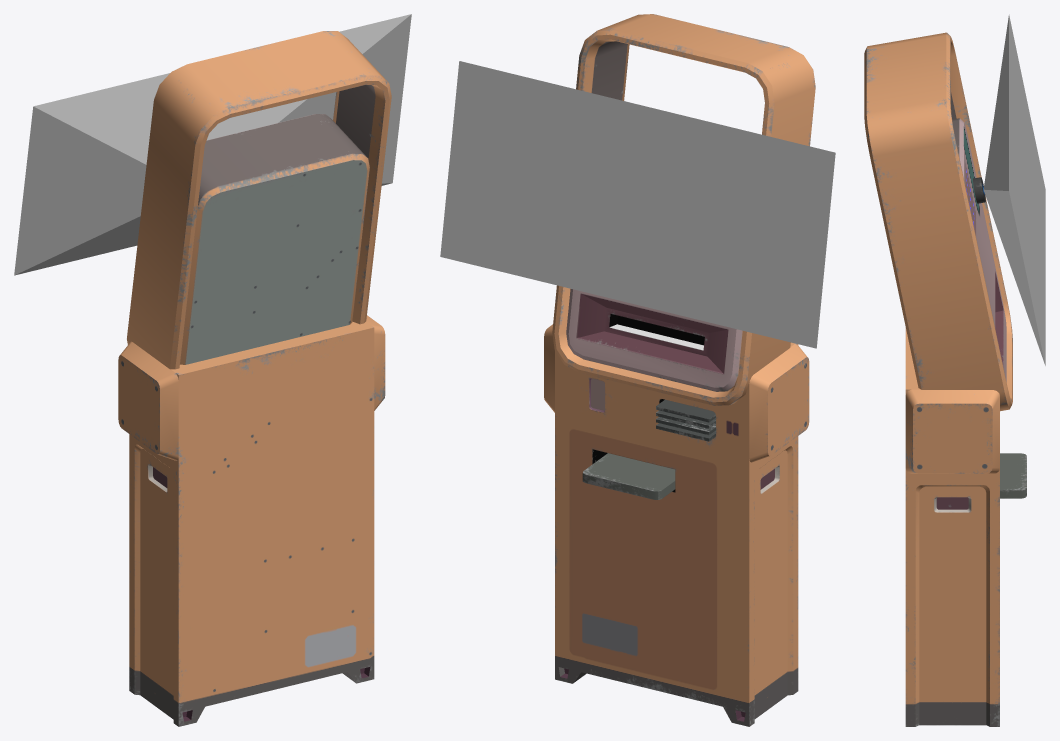
3 views of the same model, side by side, from view 1: azimuth 30°, elevation 25°; view 2: azimuth 150°, elevation 25°; view 3: azimuth 270°, elevation 25° (orthographic). The views are drawn at different scales.
Parts seen in each view (by area): view 1: Terminal-material, Terminal_hologram-material; view 2: Terminal-material, Terminal_hologram-material; view 3: Terminal-material, Terminal_hologram-material.
Part boxes in pixels (<box>): Terminal-material: <box>118,31,391,726</box>; Terminal_hologram-material: <box>14,14,411,275</box>; Terminal-material: <box>544,14,815,726</box>; Terminal_hologram-material: <box>440,61,835,348</box>; Terminal-material: <box>864,32,1026,726</box>; Terminal_hologram-material: <box>983,14,1045,365</box>.
Bounding box in the file's own units: 1.69 × 2.73 × 0.73.
